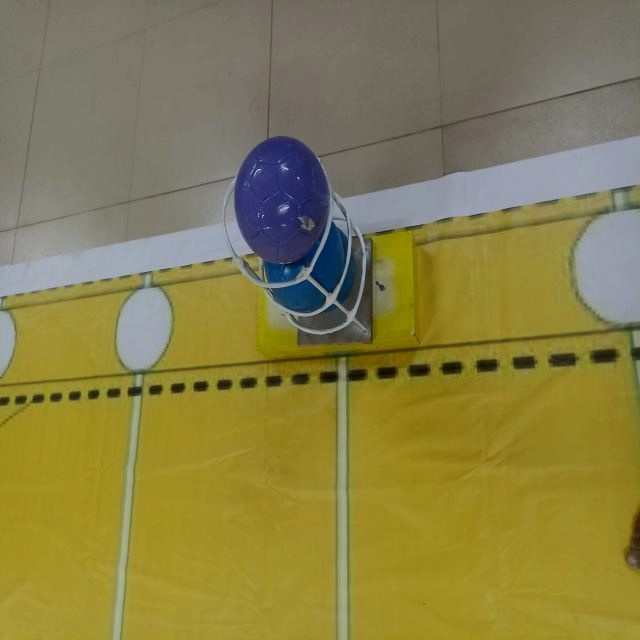blue_ball: (267, 222, 338, 311)
purple_ball: (238, 138, 322, 260)
silo: (220, 166, 376, 348)
